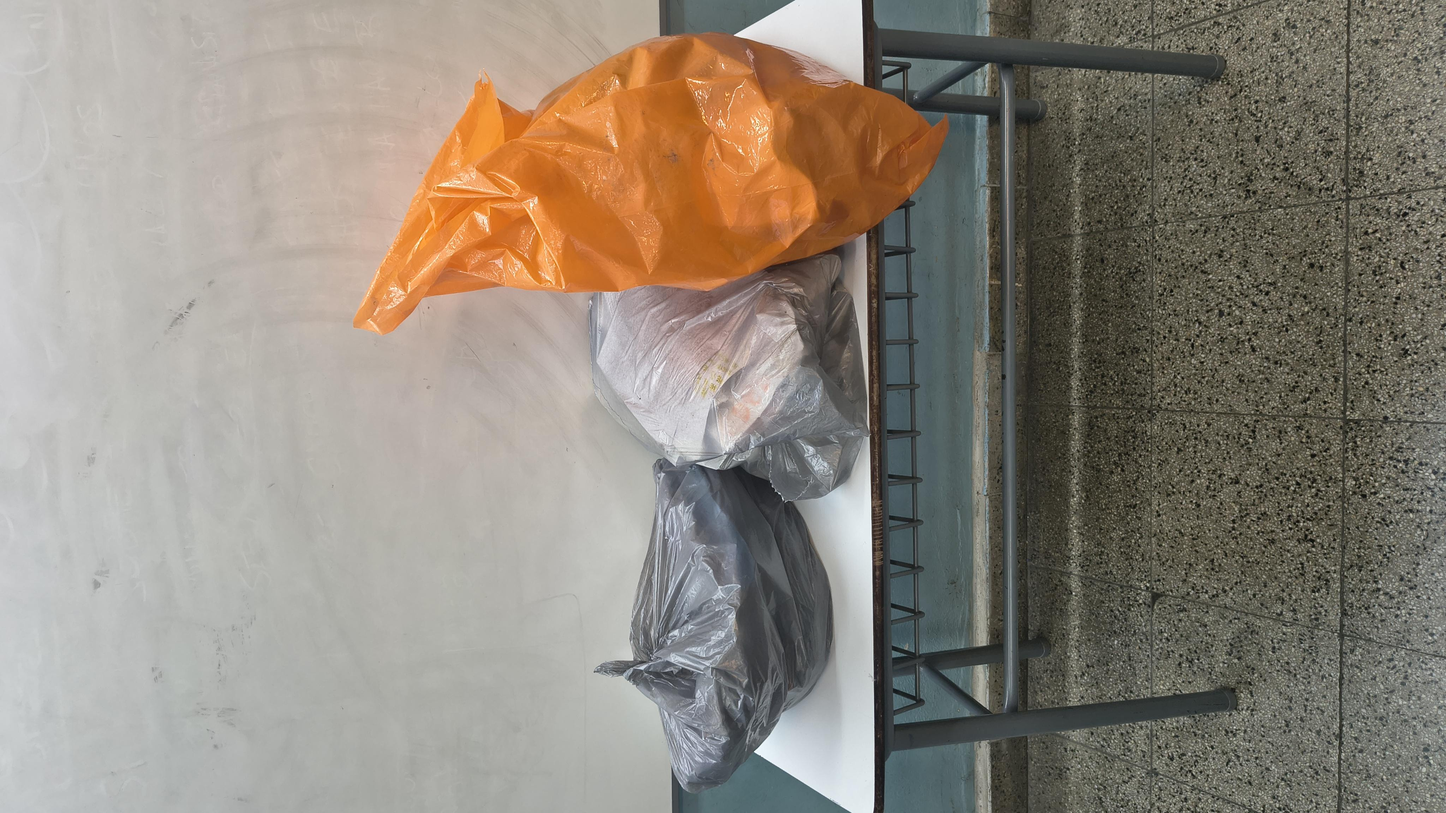Garbage: (816, 189, 1418, 552), (19, 320, 621, 510), (640, 320, 985, 514)
